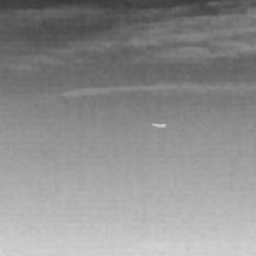Target: (150, 121, 166, 128)
